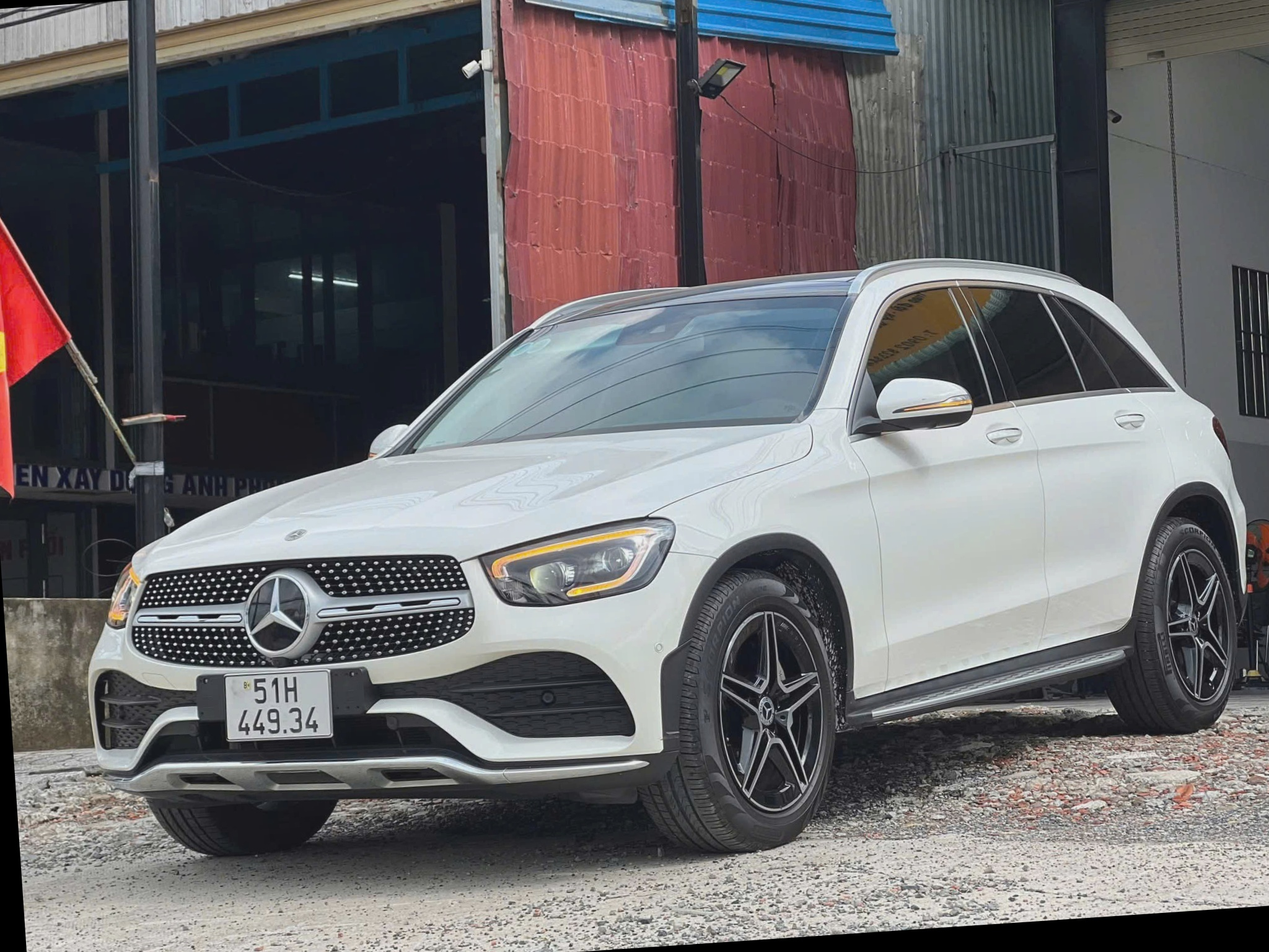Bien-so: (168, 641, 271, 706)
